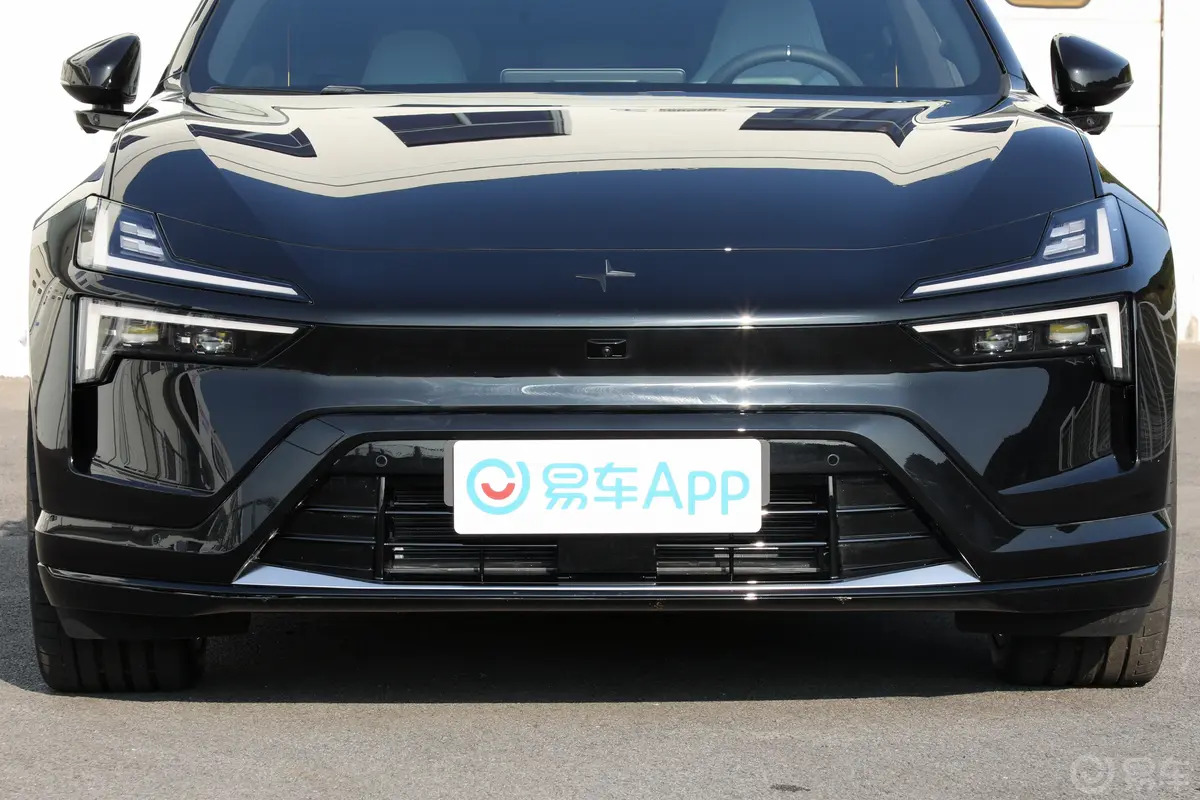Polestar: (577, 259, 636, 292)
